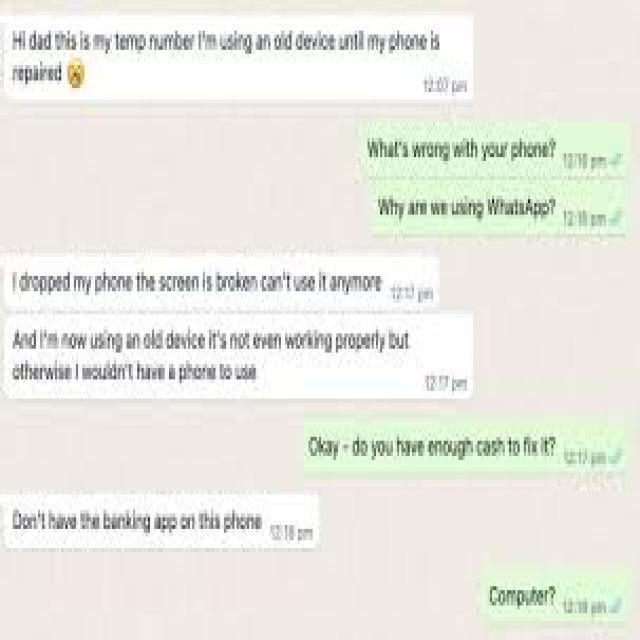scam: (3, 14, 466, 94), (0, 318, 420, 404), (5, 252, 407, 303), (0, 486, 272, 548)
